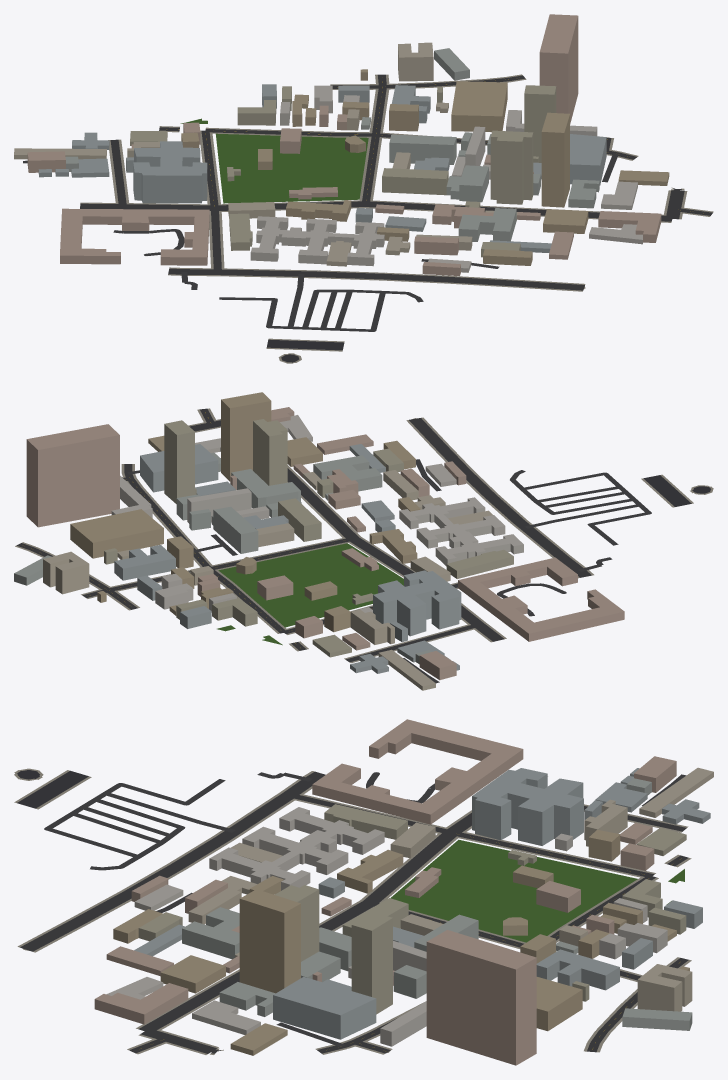
3 views of the same model, one above another, from view 1: azimuth 30°, elevation 25°; view 2: azimuth 150°, elevation 25°; view 3: azimuth 270°, elevation 25° (orthographic). The views are drawn at different scales.
Parts seen in each view (by area): view 1: tile_0_1; view 2: tile_0_1; view 3: tile_0_1.
Boxes of the visible parts, left/top/right/bottom form: tile_0_1: left=14, top=14, right=713, bottom=363; tile_0_1: left=14, top=392, right=713, bottom=690; tile_0_1: left=14, top=719, right=713, bottom=1065.
Size of the model in its own units: 483 by 64.4 by 425.
